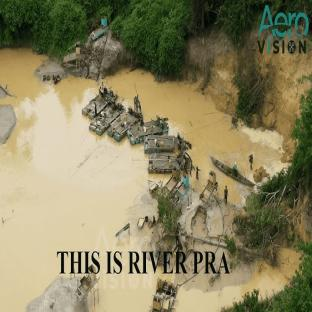ProcessingEquipment: (88, 99, 141, 144), (71, 78, 113, 123), (86, 6, 116, 53), (70, 264, 101, 306), (146, 151, 183, 183), (130, 115, 167, 138), (172, 173, 194, 209), (61, 39, 83, 75), (202, 168, 219, 212)
